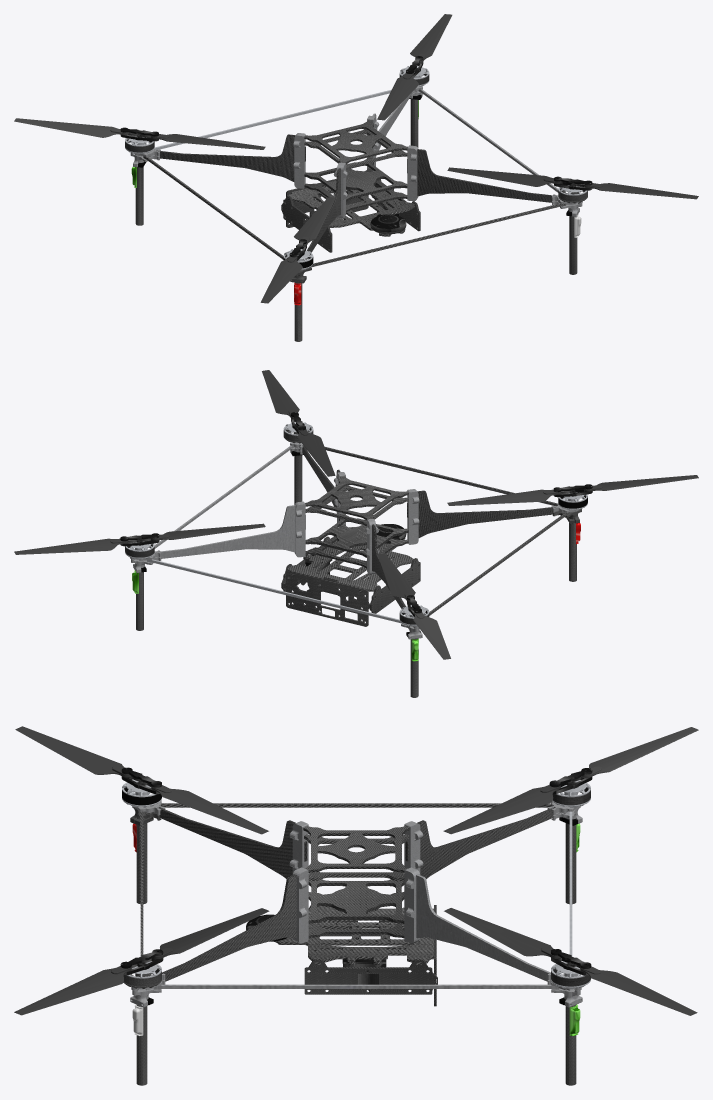
The model's file is falcon4.dae.
3 views of the same model, one above another, from view 1: azimuth 30°, elevation 25°; view 2: azimuth 150°, elevation 25°; view 3: azimuth 270°, elevation 25° (orthographic). The views are drawn at different scales.
Visible parts, largest first — view 1: A8_Frame_URDF_-_A8_ARM_Assm_URDF-1_A8_Arm_URDF-1, A8_Frame_URDF_-_A8_ARM_Assm_URDF-3_A8_Arm_URDF-1, A8_Frame_URDF_-_MountAssm-1_OVC3Mount_TopSupport_V01-1, A8_Frame_URDF_-_A8_Top_Mount_Top_URDF-2, A8_Frame_URDF_-_A8_ARM_Assm_URDF-3_Tarot_4008_Motor_Assembl_ (×2), A8_Frame_URDF_-_A8_ARM_Assm_URDF-1_Tarot_4008_Motor_Assembl_ (×2), A8_Frame_URDF_-_A8_ARM_Assm_URDF-2_Tarot_4008_Motor_Assembl_ (×2), A8_Frame_URDF_-_A8_ARM_Assm_URDF-4_Tarot_4008_Motor_Assembl_ (×2), A8_Frame_URDF_-_A8_Central_Mount_URDF-1, A8_Frame_URDF_-_A8_ARM_Assm_URDF-1_A8_Arm_Support_V1-1, A8_Frame_URDF_-_A8_ARM_Assm_URDF-3_A8_Arm_Support_V1-1, A8_Frame_URDF_-_MountAssm-1_OVC3Mount_Side_V01-2 (+8 smaller); view 2: A8_Frame_URDF_-_MountAssm-1_OVC3Mount_Front_V01-1, A8_Frame_URDF_-_MountAssm-1_OVC3Mount_TopSupport_V01-1, A8_Frame_URDF_-_A8_ARM_Assm_URDF-4_A8_Arm_URDF-1, A8_Frame_URDF_-_A8_ARM_Assm_URDF-2_A8_Arm_URDF-1, A8_Frame_URDF_-_A8_Top_Mount_Top_URDF-2, A8_Frame_URDF_-_A8_ARM_Assm_URDF-2_Tarot_4008_Motor_Assembl_ (×2), A8_Frame_URDF_-_A8_ARM_Assm_URDF-4_Tarot_4008_Motor_Assembl_ (×2), A8_Frame_URDF_-_A8_ARM_Assm_URDF-1_Tarot_4008_Motor_Assembl_ (×2), A8_Frame_URDF_-_A8_ARM_Assm_URDF-3_Tarot_4008_Motor_Assembl_ (×2), A8_Frame_URDF_-_A8_Central_Mount_URDF-1, A8_Frame_URDF_-_A8_ARM_Assm_URDF-3_A8_Arm_Support_V1-1, A8_Frame_URDF_-_MountAssm-1_OVC3Mount_Side_V01-2 (+7 smaller); view 3: A8_Frame_URDF_-_MountAssm-1_OVC3Mount_TopSupport_V01-1, A8_Frame_URDF_-_A8_Central_Mount_URDF-1, A8_Frame_URDF_-_MountAssm-1_OVC3Mount_Side_V01-1, A8_Frame_URDF_-_A8_Top_Mount_Top_URDF-2, A8_Frame_URDF_-_A8_ARM_Assm_URDF-3_Tarot_4008_Motor_Assembl_ (×2), A8_Frame_URDF_-_A8_ARM_Assm_URDF-1_Tarot_4008_Motor_Assembl_ (×2), A8_Frame_URDF_-_A8_ARM_Assm_URDF-4_Tarot_4008_Motor_Assembl_ (×2), A8_Frame_URDF_-_A8_ARM_Assm_URDF-2_Tarot_4008_Motor_Assembl_ (×2), A8_Frame_URDF_-_A8_ARM_Assm_URDF-1_A8_Arm_URDF-1, A8_Frame_URDF_-_A8_ARM_Assm_URDF-4_A8_Arm_URDF-1, A8_Frame_URDF_-_A8_ARM_Assm_URDF-2_A8_Arm_URDF-1, A8_Frame_URDF_-_A8_ARM_Assm_URDF-3_A8_Arm_URDF-1 (+15 smaller).
Part boxes in pixels (left/top/right/bottom): A8_Frame_URDF_-_A8_ARM_Assm_URDF-1_A8_Arm_URDF-1: left=407, top=149, right=556, bottom=202; A8_Frame_URDF_-_A8_ARM_Assm_URDF-3_A8_Arm_URDF-1: left=155, top=134, right=305, bottom=181; A8_Frame_URDF_-_MountAssm-1_OVC3Mount_TopSupport_V01-1: left=287, top=185, right=414, bottom=236; A8_Frame_URDF_-_A8_Top_Mount_Top_URDF-2: left=304, top=120, right=407, bottom=163; A8_Frame_URDF_-_A8_ARM_Assm_URDF-3_Tarot_4008_Motor_Assembl_ (×2): left=14, top=118, right=265, bottom=149; A8_Frame_URDF_-_A8_ARM_Assm_URDF-1_Tarot_4008_Motor_Assembl_ (×2): left=447, top=167, right=698, bottom=199; A8_Frame_URDF_-_A8_ARM_Assm_URDF-2_Tarot_4008_Motor_Assembl_ (×2): left=260, top=197, right=335, bottom=303; A8_Frame_URDF_-_A8_ARM_Assm_URDF-4_Tarot_4008_Motor_Assembl_ (×2): left=377, top=14, right=452, bottom=120; A8_Frame_URDF_-_A8_Central_Mount_URDF-1: left=304, top=157, right=407, bottom=201; A8_Frame_URDF_-_A8_ARM_Assm_URDF-1_A8_Arm_Support_V1-1: left=308, top=203, right=566, bottom=268; A8_Frame_URDF_-_A8_ARM_Assm_URDF-3_A8_Arm_Support_V1-1: left=154, top=89, right=391, bottom=149; A8_Frame_URDF_-_MountAssm-1_OVC3Mount_Side_V01-2: left=281, top=195, right=332, bottom=252; A8_Frame_URDF_-_MountAssm-1_OVC3Mount_Front_V01-1: left=283, top=570, right=372, bottom=626; A8_Frame_URDF_-_MountAssm-1_OVC3Mount_TopSupport_V01-1: left=287, top=538, right=416, bottom=592; A8_Frame_URDF_-_A8_ARM_Assm_URDF-4_A8_Arm_URDF-1: left=155, top=505, right=305, bottom=558; A8_Frame_URDF_-_A8_ARM_Assm_URDF-2_A8_Arm_URDF-1: left=407, top=490, right=558, bottom=537; A8_Frame_URDF_-_A8_Top_Mount_Top_URDF-2: left=305, top=476, right=408, bottom=519; A8_Frame_URDF_-_A8_ARM_Assm_URDF-2_Tarot_4008_Motor_Assembl_ (×2): left=447, top=475, right=698, bottom=505; A8_Frame_URDF_-_A8_ARM_Assm_URDF-4_Tarot_4008_Motor_Assembl_ (×2): left=14, top=523, right=265, bottom=554; A8_Frame_URDF_-_A8_ARM_Assm_URDF-1_Tarot_4008_Motor_Assembl_ (×2): left=262, top=370, right=335, bottom=476; A8_Frame_URDF_-_A8_ARM_Assm_URDF-3_Tarot_4008_Motor_Assembl_ (×2): left=377, top=553, right=450, bottom=659; A8_Frame_URDF_-_A8_Central_Mount_URDF-1: left=305, top=513, right=408, bottom=557; A8_Frame_URDF_-_A8_ARM_Assm_URDF-3_A8_Arm_Support_V1-1: left=147, top=559, right=405, bottom=624; A8_Frame_URDF_-_MountAssm-1_OVC3Mount_Side_V01-2: left=369, top=558, right=420, bottom=613; A8_Frame_URDF_-_MountAssm-1_OVC3Mount_TopSupport_V01-1: left=260, top=906, right=433, bottom=964; A8_Frame_URDF_-_A8_Central_Mount_URDF-1: left=308, top=879, right=404, bottom=923; A8_Frame_URDF_-_MountAssm-1_OVC3Mount_Side_V01-1: left=304, top=959, right=437, bottom=994; A8_Frame_URDF_-_A8_Top_Mount_Top_URDF-2: left=303, top=826, right=409, bottom=872; A8_Frame_URDF_-_A8_ARM_Assm_URDF-3_Tarot_4008_Motor_Assembl_ (×2): left=443, top=727, right=698, bottom=834; A8_Frame_URDF_-_A8_ARM_Assm_URDF-1_Tarot_4008_Motor_Assembl_ (×2): left=14, top=908, right=269, bottom=1015; A8_Frame_URDF_-_A8_ARM_Assm_URDF-4_Tarot_4008_Motor_Assembl_ (×2): left=444, top=908, right=697, bottom=1015; A8_Frame_URDF_-_A8_ARM_Assm_URDF-2_Tarot_4008_Motor_Assembl_ (×2): left=15, top=726, right=268, bottom=834; A8_Frame_URDF_-_A8_ARM_Assm_URDF-1_A8_Arm_URDF-1: left=162, top=874, right=296, bottom=981; A8_Frame_URDF_-_A8_ARM_Assm_URDF-4_A8_Arm_URDF-1: left=416, top=874, right=550, bottom=981; A8_Frame_URDF_-_A8_ARM_Assm_URDF-2_A8_Arm_URDF-1: left=152, top=808, right=307, bottom=878; A8_Frame_URDF_-_A8_ARM_Assm_URDF-3_A8_Arm_URDF-1: left=405, top=808, right=560, bottom=878.
Bounding box in the file's own units: 0.768 × 0.768 × 0.1804.
63 materials, 50 textured.
